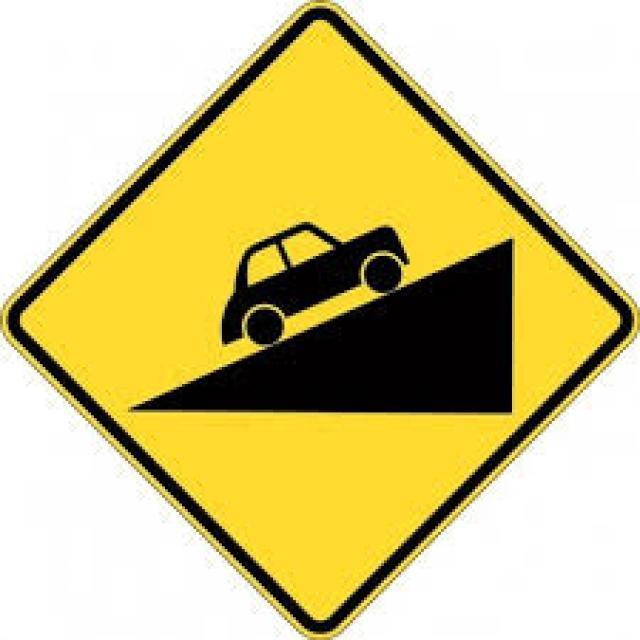steep ascent: (23, 24, 624, 622)
